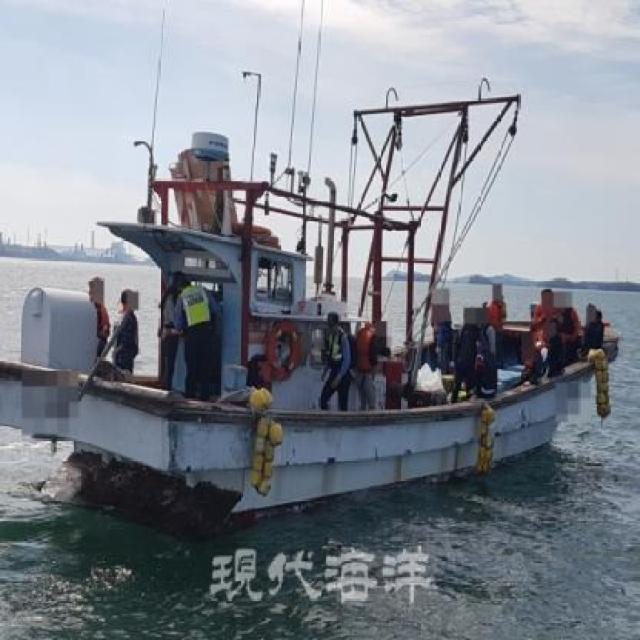fish-b: (1, 67, 626, 547)
